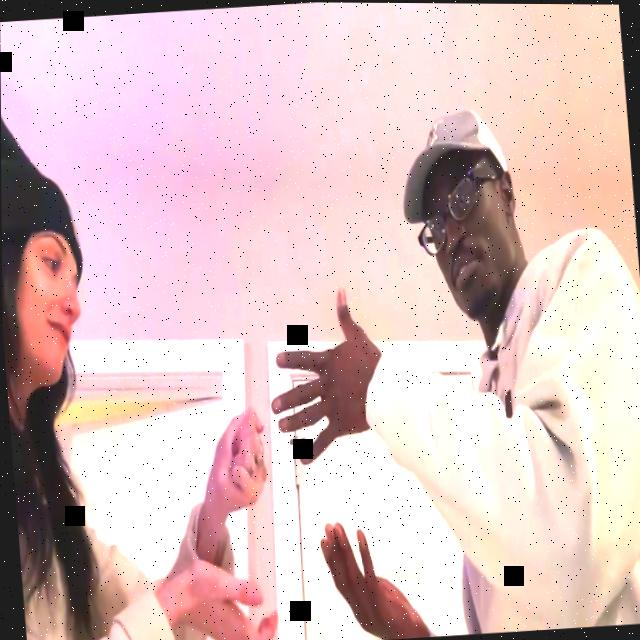Paper: (260, 281, 387, 469)
Rock: (210, 404, 269, 513)
